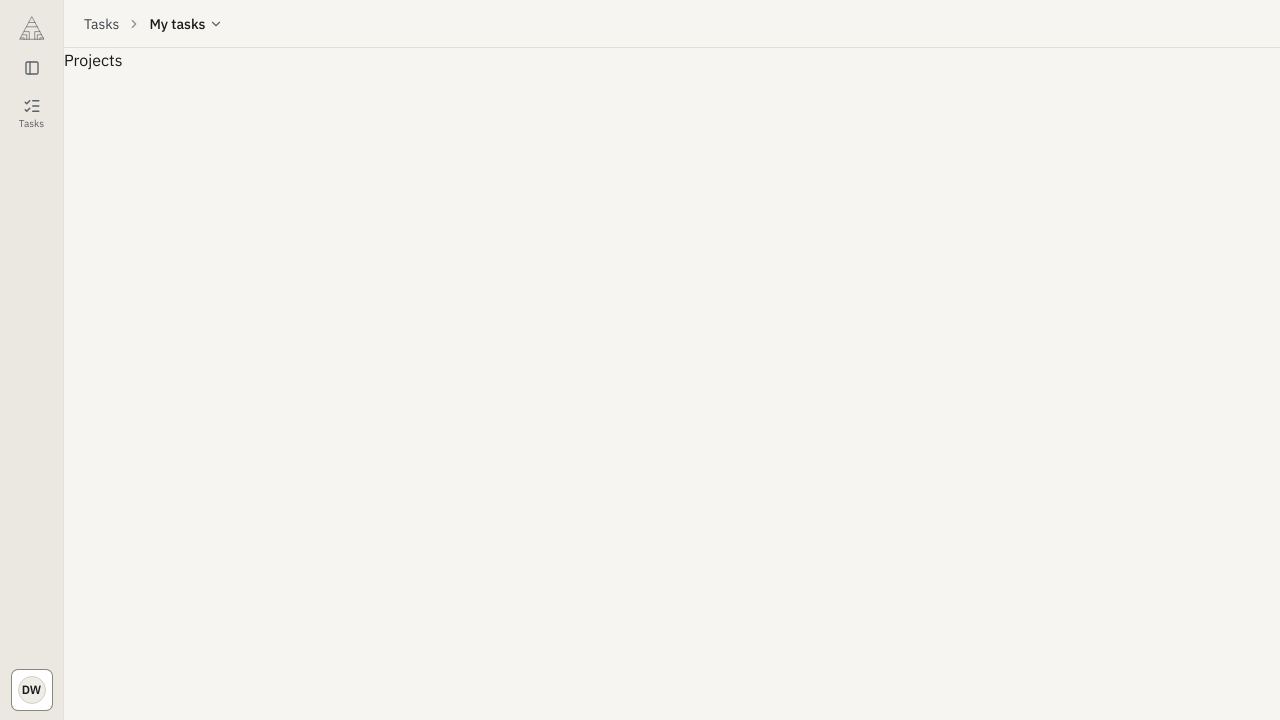
it: following a link inside the drawer › dismisses a floating drawer, so it never covers the page it opened (§16)
Click the button named "Show workspace views": (32, 68) [14,50,50,86]
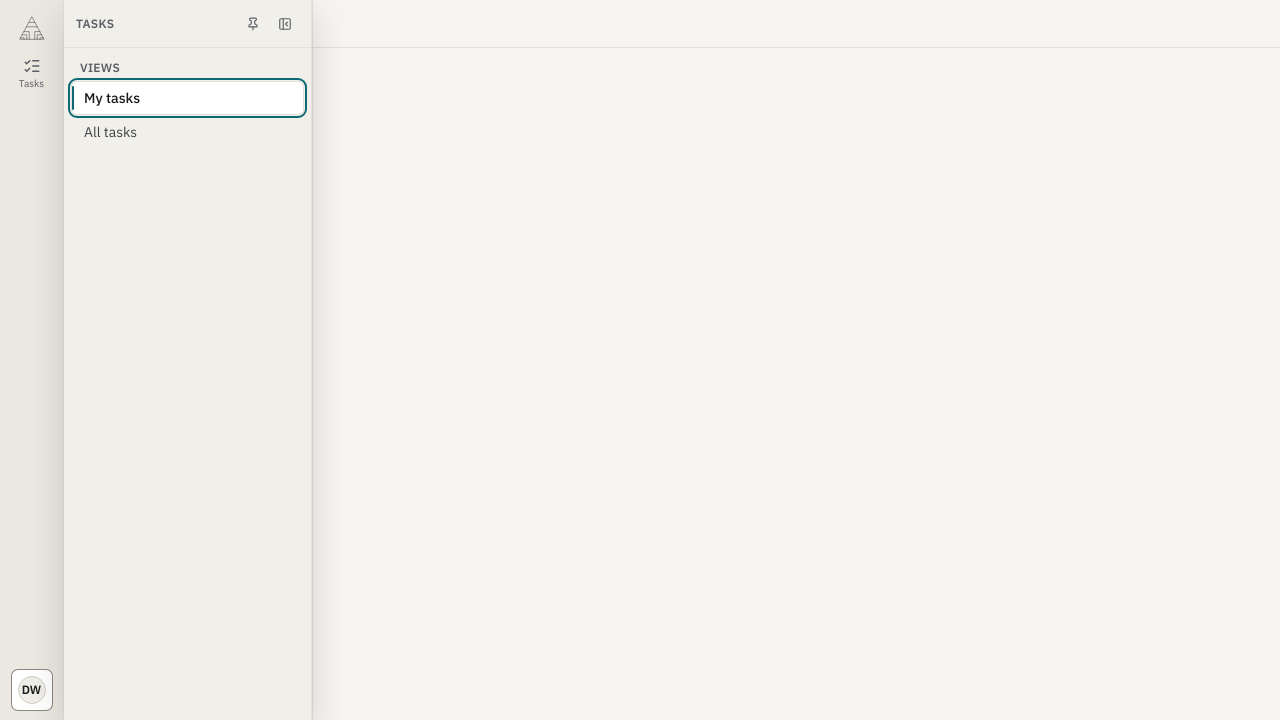
Click the link "All tasks": (111, 132) [84,123,137,141]
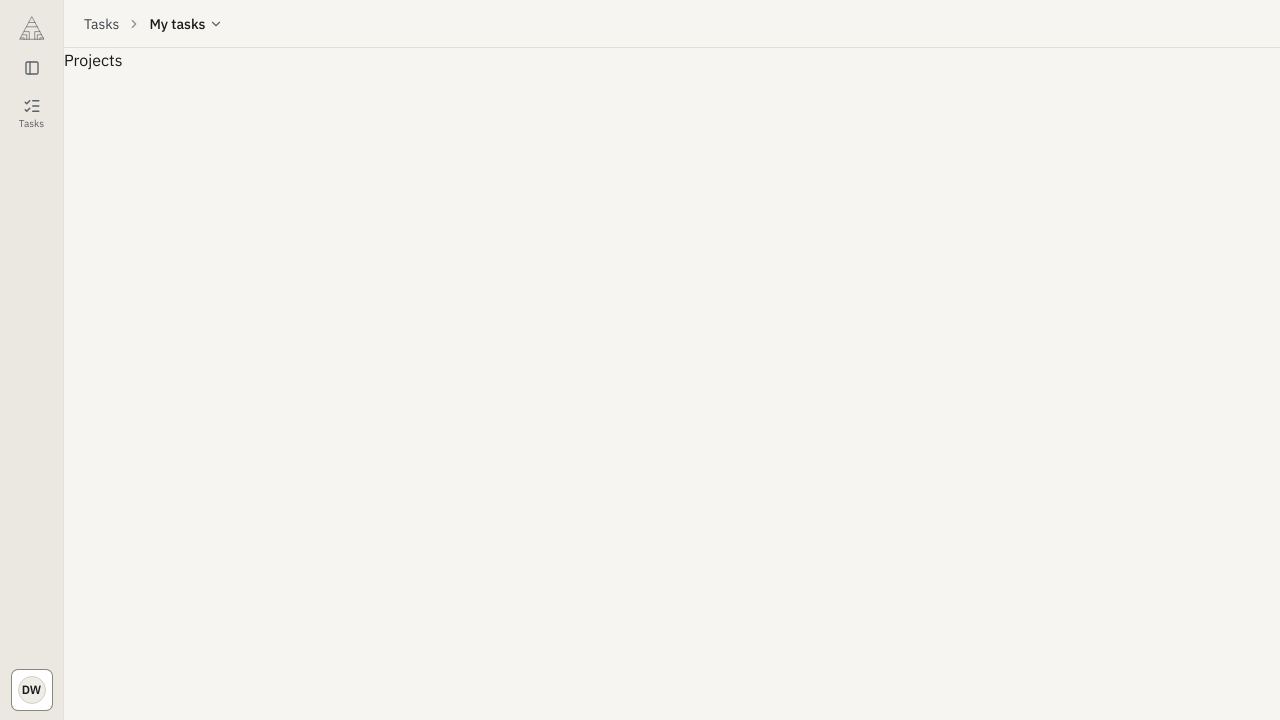
Now the navigation bar "Tasks Views" is gone
